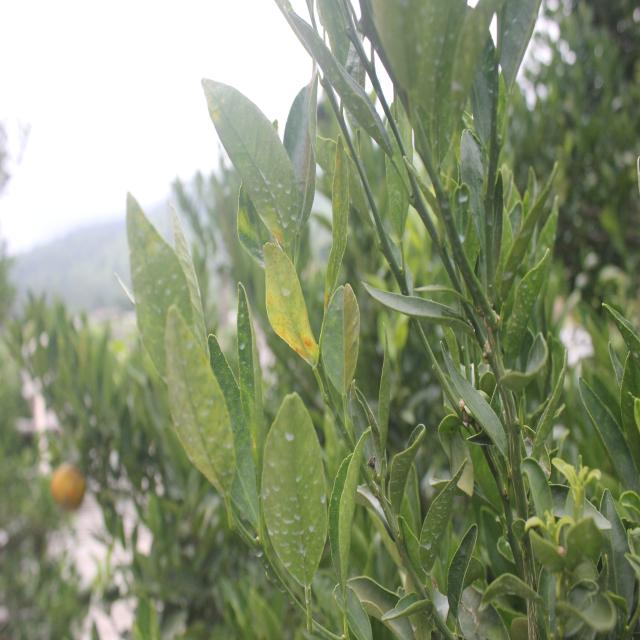canker: (174, 334, 237, 496), (267, 260, 314, 358), (204, 78, 239, 130), (331, 147, 348, 196), (269, 216, 288, 250)
